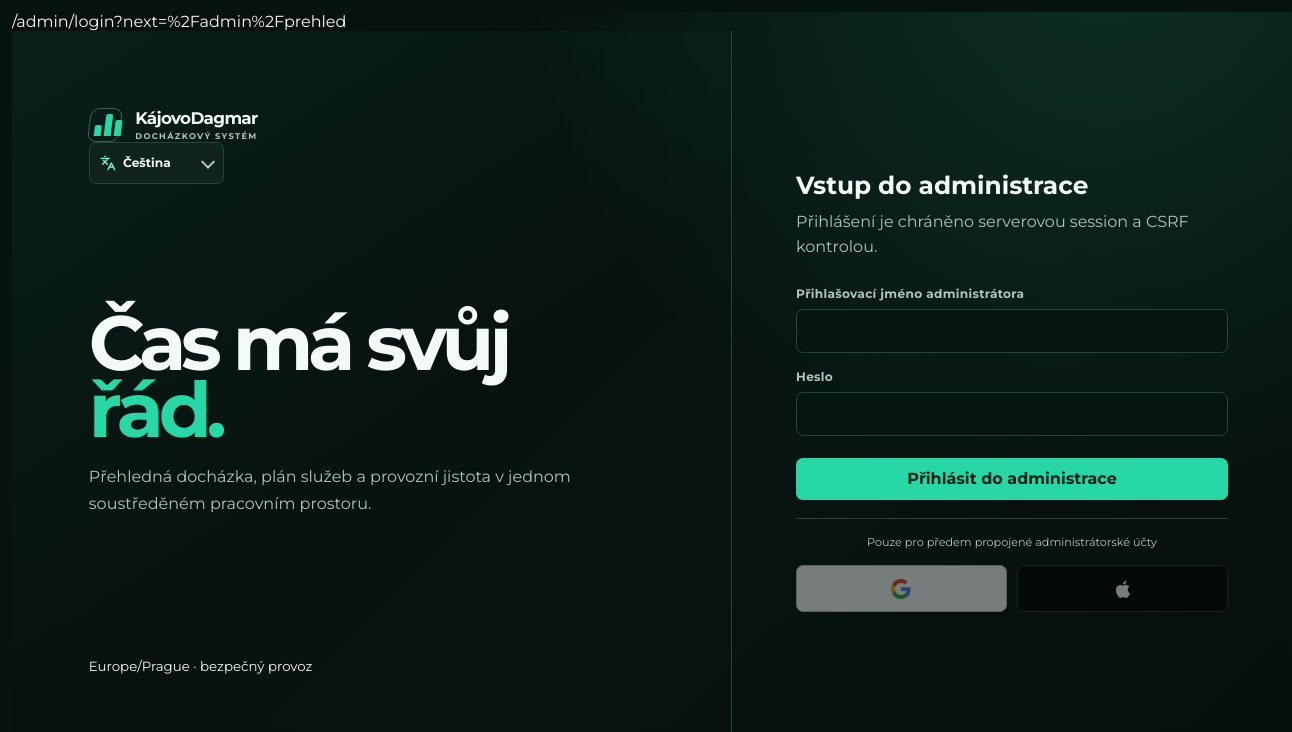
it: admin authentication flow › shows Czech error for invalid admin credentials and stays on login
The image size is (1292, 732).
In the field labelled "Přihlašovací jméno administrátora": point(1012, 331) [796,309,1228,353], type "provoz@hotelchodovasc.cz"
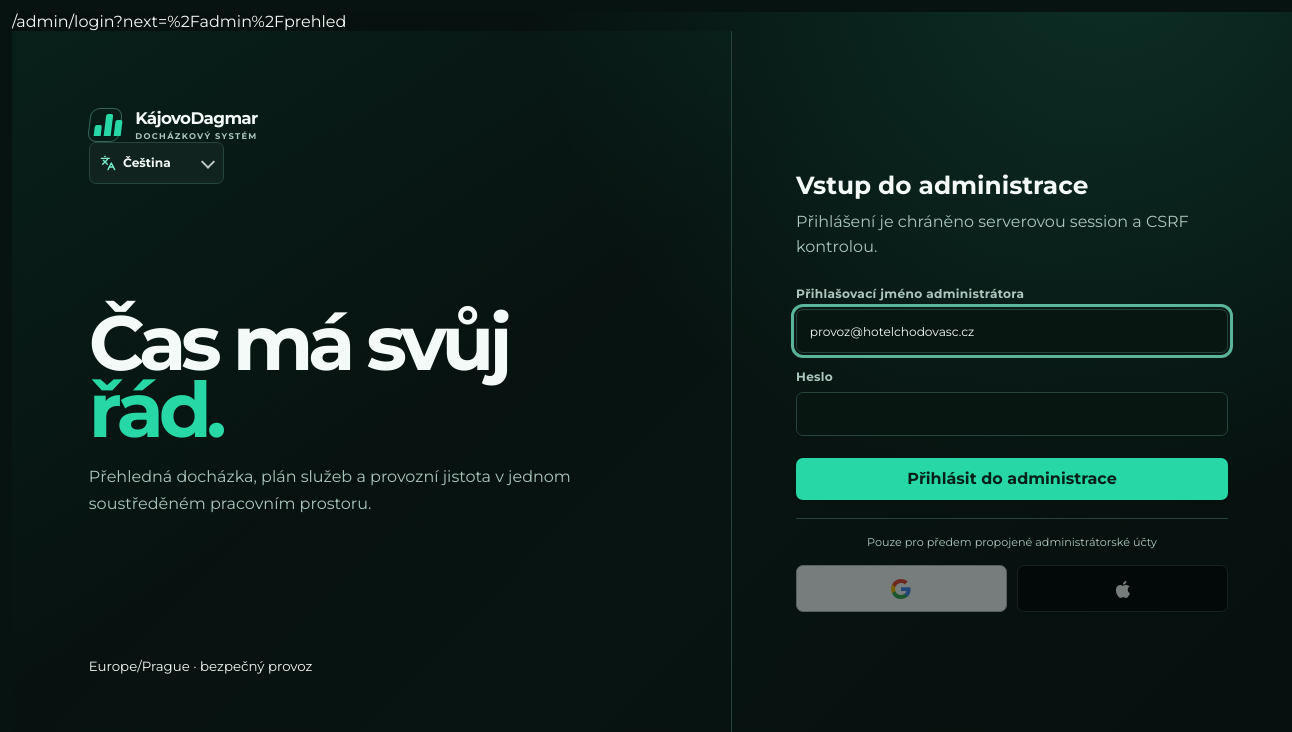
In the password field labelled "Heslo": point(1012, 414) [796,392,1228,436], type "wrong-password"
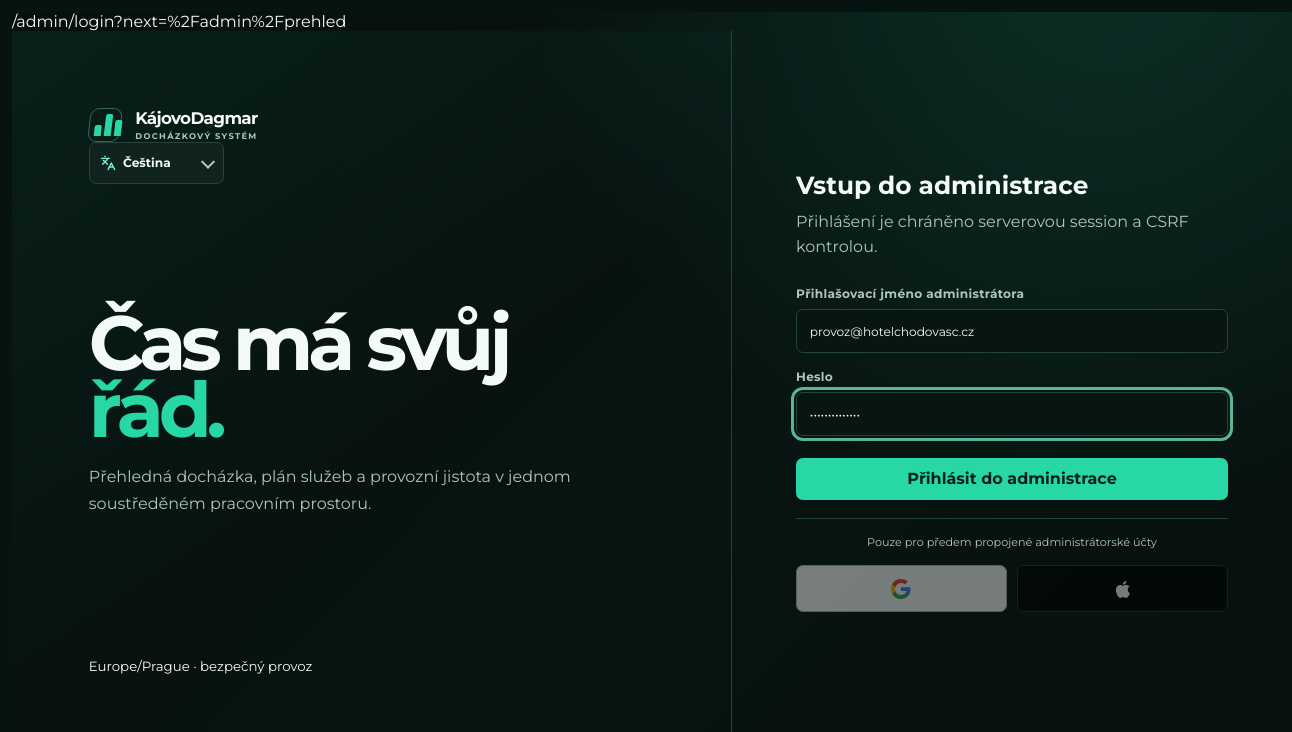
Click the button "Přihlásit do administrace": point(1012, 479) [796,458,1228,500]
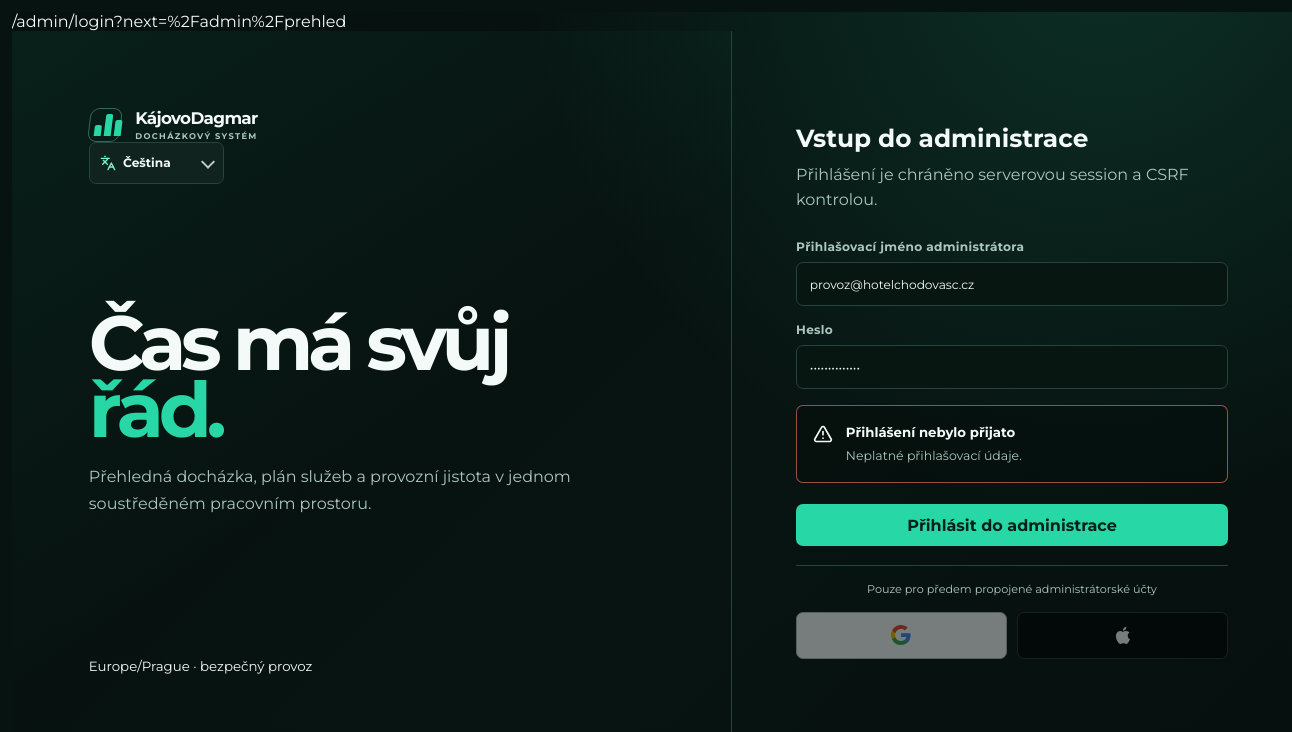
expect the text named "Aktuální cesta" reads "/admin/login?next=%2Fadmin%2Fprehled": met, box [12,12,346,31]
expect the text "Neplatné přihlašovací údaje." is shown: met, box [846,447,1022,466]
